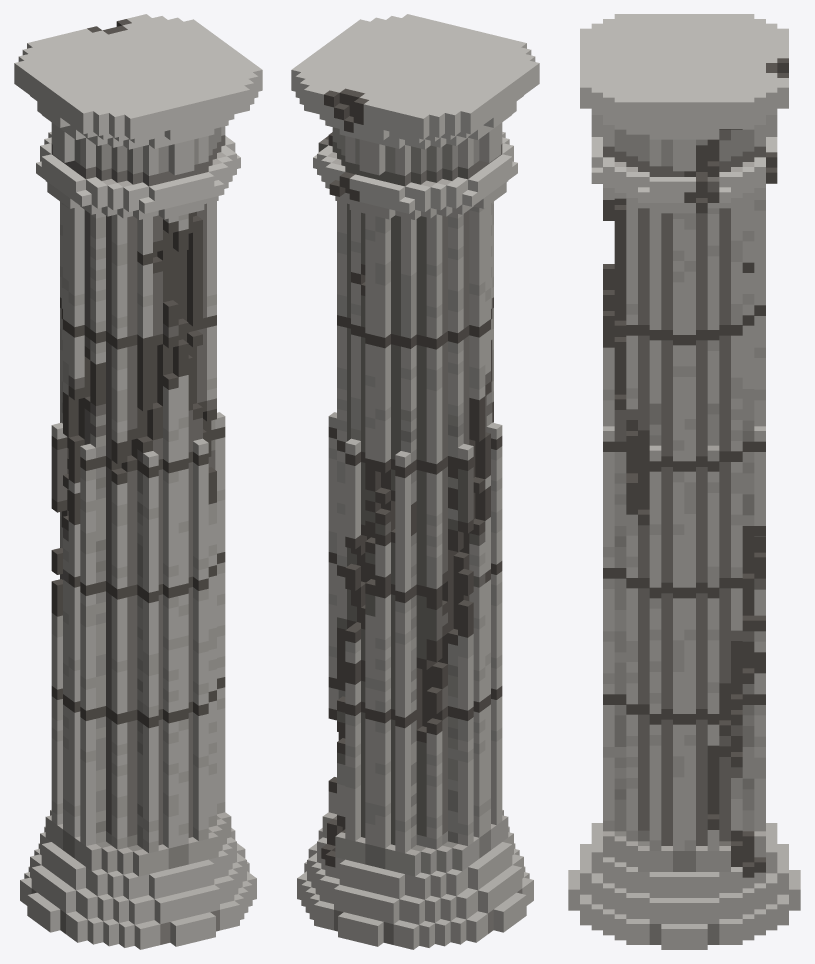
The model's file is stone_pillar_cracked.obj.
3 renders of one model, left to right at view 1: azimuth 30°, elevation 25°; view 2: azimuth 150°, elevation 25°; view 3: azimuth 270°, elevation 25°, orthographic.
Size of the model in its own units: 2 by 8 by 2.
1 material, 1 textured.
